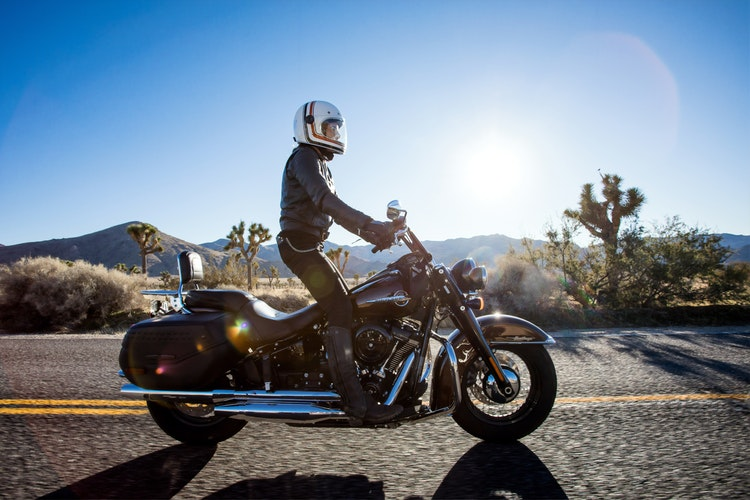helmet: (292, 98, 352, 156)
